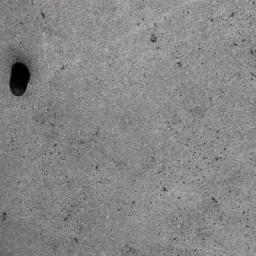FOD: (8, 61, 35, 99)
